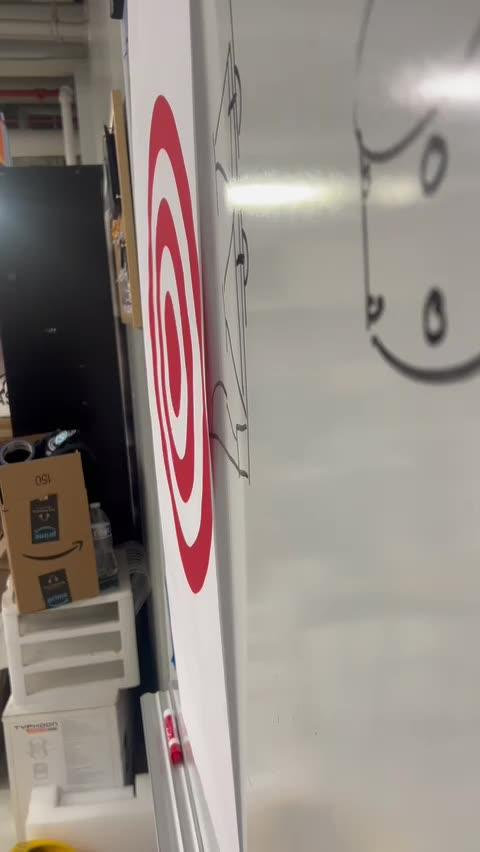target_red: (144, 90, 211, 594)
